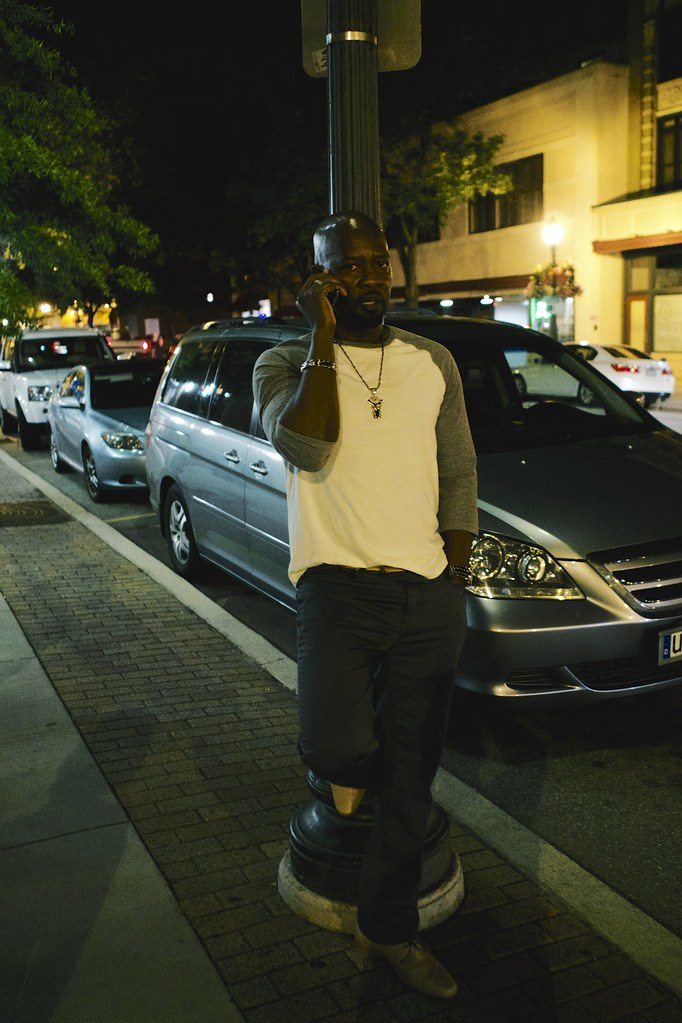phone: (297, 253, 361, 318)
talk: (293, 237, 385, 345)
